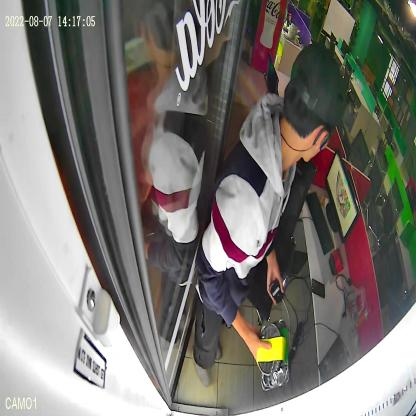green: (260, 318, 290, 392)
yellow: (256, 320, 284, 376)
